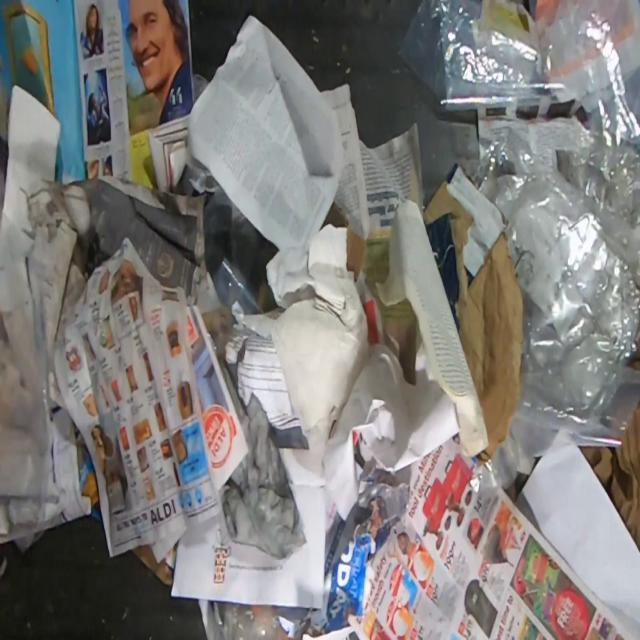cardboard: (423, 183, 526, 461), (581, 394, 640, 547), (320, 202, 368, 280)
soft_plastic: (398, 0, 640, 499), (174, 159, 280, 315), (0, 280, 52, 550), (206, 598, 307, 640)
